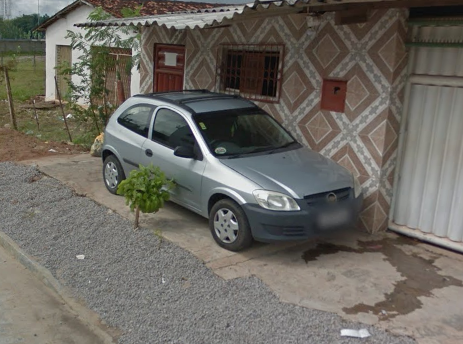car: (98, 88, 365, 253)
